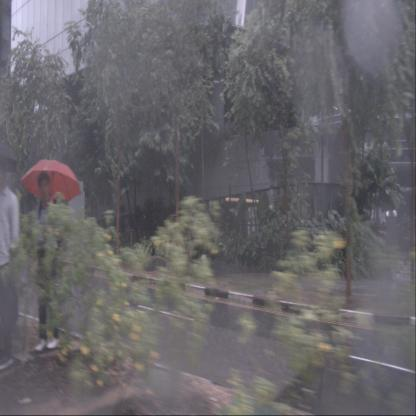human-pedestrian-adult: (20, 159, 82, 352), (0, 141, 20, 372)
